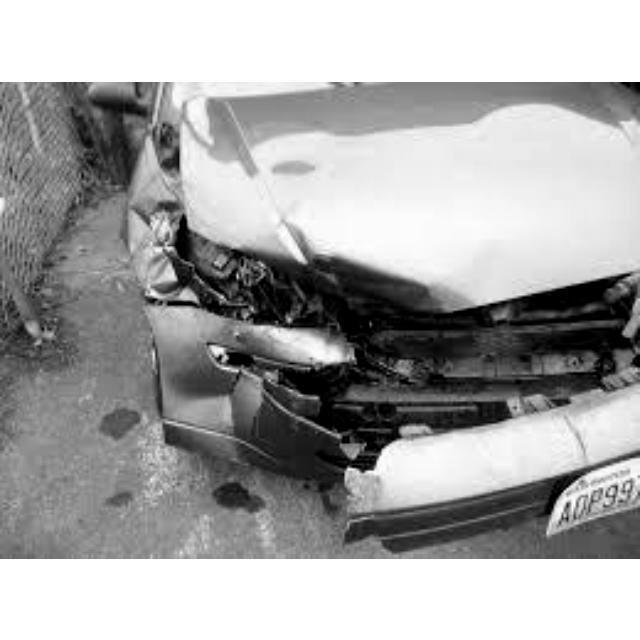Headlight-damage: (177, 251, 337, 379)
bonnet-dent: (153, 99, 509, 310)
fender-dent: (111, 151, 182, 288)
